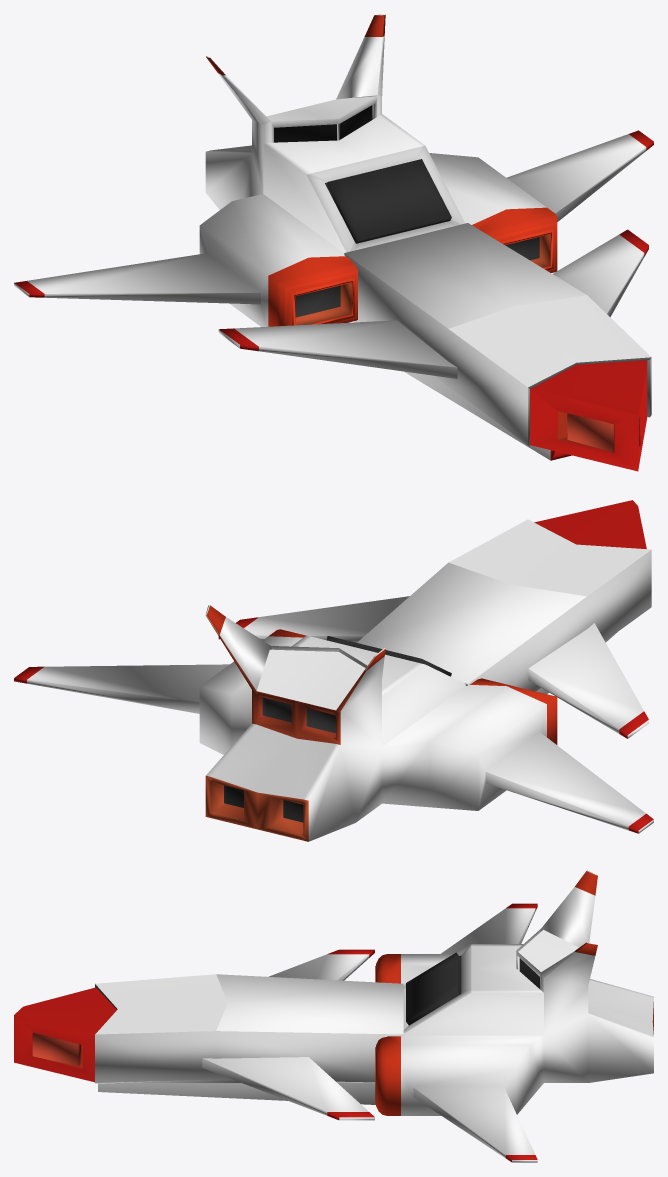
File: spaceship.glb
3 renders of one model, top to bottom at view 1: azimuth 30°, elevation 25°; view 2: azimuth 150°, elevation 25°; view 3: azimuth 270°, elevation 25°, orthographic. The views are drawn at different scales.
Visible parts, largest first — view 1: Cube; view 2: Cube; view 3: Cube.
Boxes of the visible parts, x1,y1,x2,y2 form: Cube: [14, 14, 653, 471]; Cube: [14, 500, 653, 841]; Cube: [14, 870, 653, 1162].
Bounding box in the file's own units: 1051 × 340 × 1110.
1 material, 1 textured.
